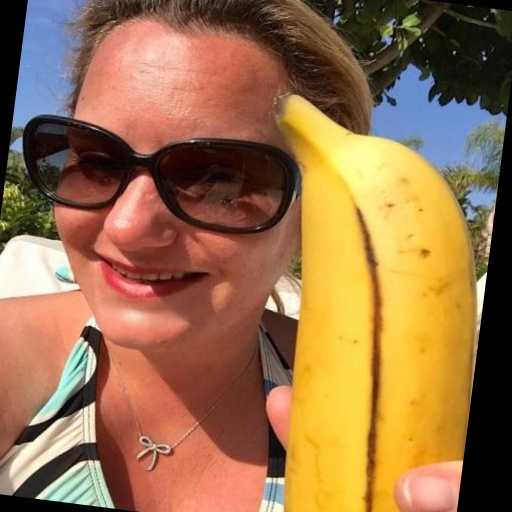fruit: (276, 95, 475, 512)
